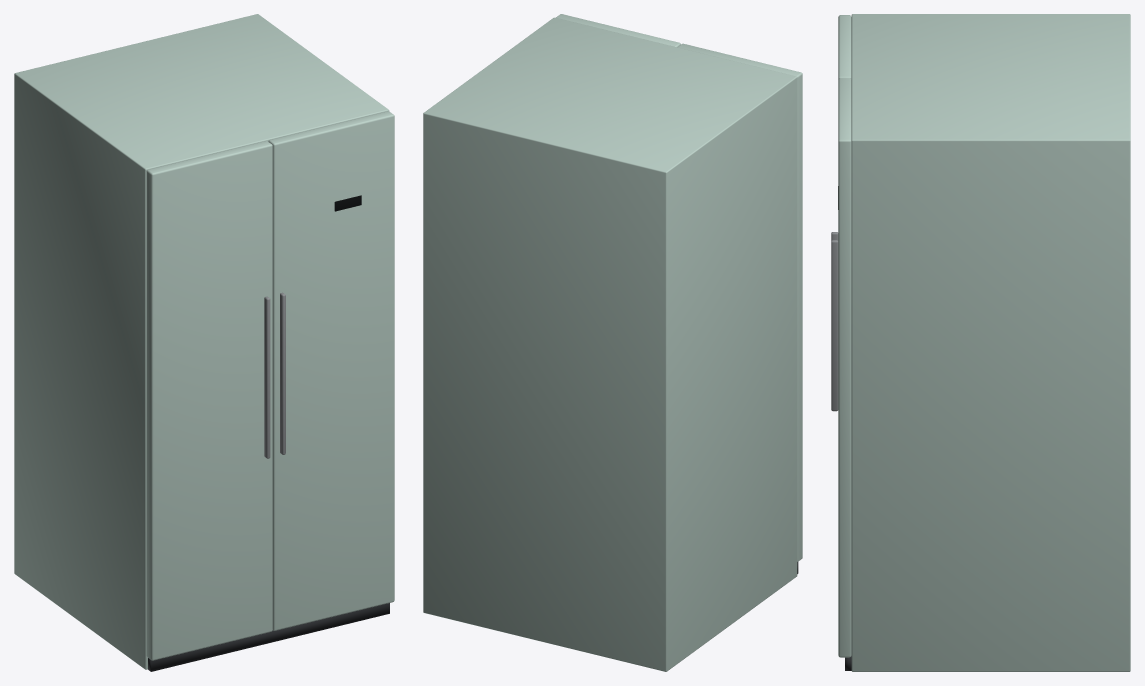
The model's file is S834MTE011.glb.
3 views of the same model, side by side, from view 1: azimuth 30°, elevation 25°; view 2: azimuth 150°, elevation 25°; view 3: azimuth 270°, elevation 25° (orthographic). The views are drawn at different scales.
Visible parts, largest first — view 1: S834MTE011; view 2: S834MTE011; view 3: S834MTE011.
Boxes of the visible parts, x1=… form: S834MTE011: x1=14, y1=14, x2=394, y2=671; S834MTE011: x1=423, y1=14, x2=802, y2=671; S834MTE011: x1=831, y1=14, x2=1130, y2=671.
Size of the model in its own units: 0.913 by 1.79 by 0.913.
